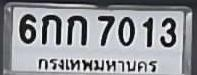0: (117, 16, 134, 45)
1: (142, 16, 152, 46)
3: (159, 17, 175, 46)
6: (19, 13, 35, 43)
7: (97, 15, 114, 45)
A01: (66, 14, 86, 45), (41, 14, 61, 44)
BKK: (35, 55, 161, 75)
